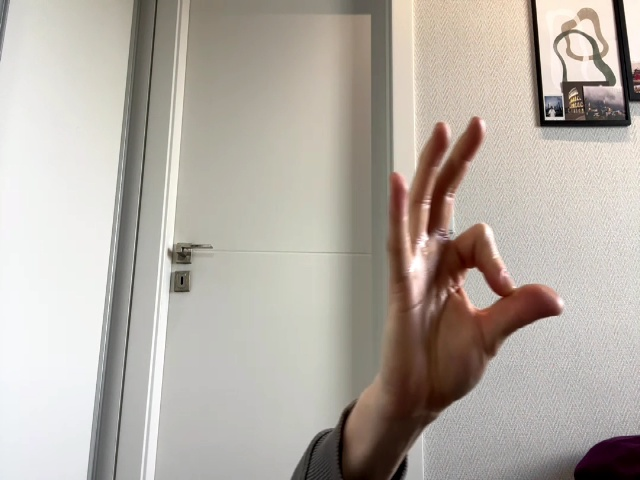S: (385, 117, 565, 413)
